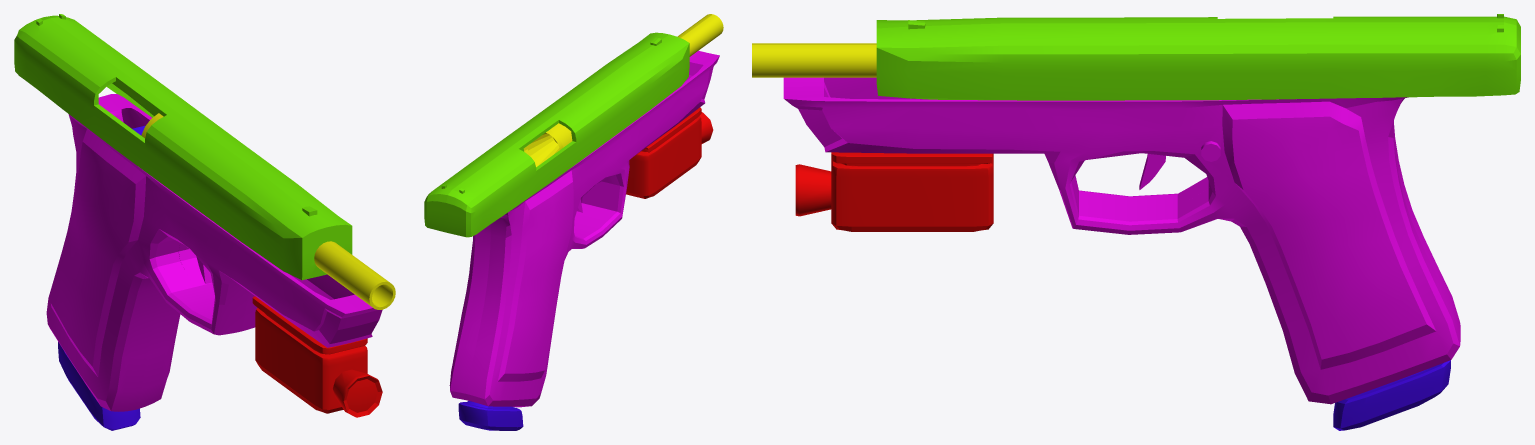
Rendered from gunstrigger.fbx.
The picture shows the model from 3 angles, left to right: view 1: azimuth 30°, elevation 25°; view 2: azimuth 150°, elevation 25°; view 3: azimuth 270°, elevation 25°; orthographic projection. The views are drawn at different scales.
Parts seen in each view (by area): view 1: polySurface19; view 2: polySurface19; view 3: polySurface19.
Part boxes in pixels (<box>): polySurface19: <box>14,14,395,430</box>; polySurface19: <box>424,14,723,430</box>; polySurface19: <box>752,14,1520,430</box>.
Bounding box in the file's own units: 1.77 × 7.14 × 12.28.
